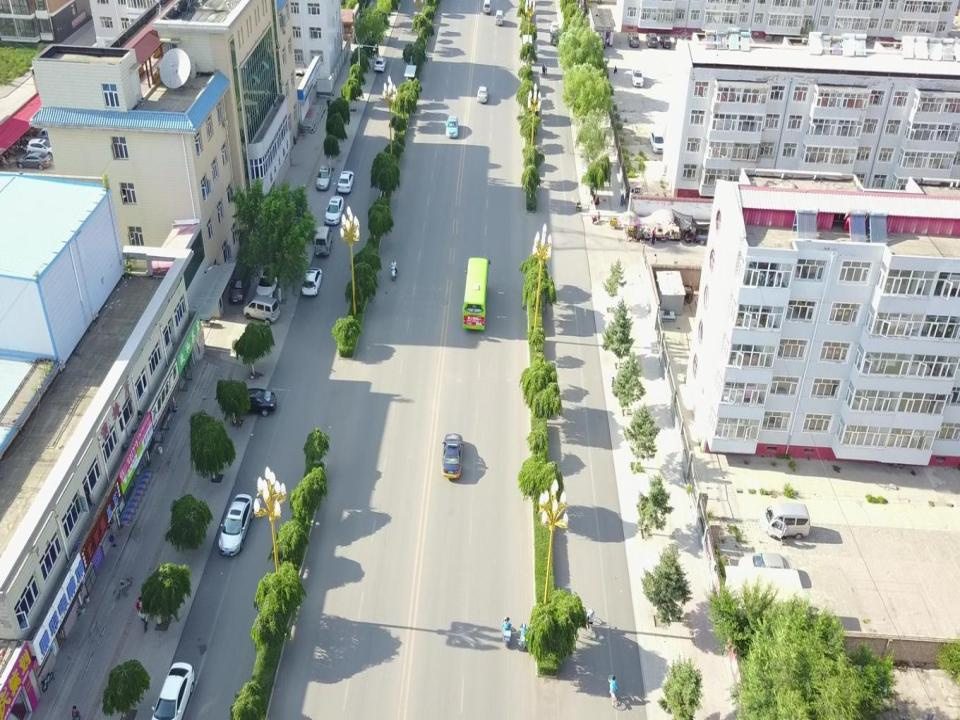bus: (462, 256, 490, 332)
car: (150, 660, 194, 720), (218, 494, 254, 556), (230, 388, 277, 415), (443, 433, 463, 477), (256, 264, 278, 298), (16, 151, 52, 168), (324, 196, 344, 225), (26, 138, 57, 156), (302, 268, 321, 296), (649, 131, 665, 154), (316, 166, 331, 190), (338, 170, 354, 192), (37, 128, 59, 142), (445, 116, 458, 137), (645, 33, 658, 49), (476, 86, 488, 103), (631, 70, 643, 86), (374, 56, 386, 72), (628, 32, 640, 47), (660, 35, 671, 49), (549, 31, 559, 45), (549, 21, 559, 34)
van: (760, 503, 809, 540), (243, 296, 279, 324), (228, 265, 249, 303), (314, 227, 331, 257), (482, 0, 492, 14), (495, 11, 504, 26)
